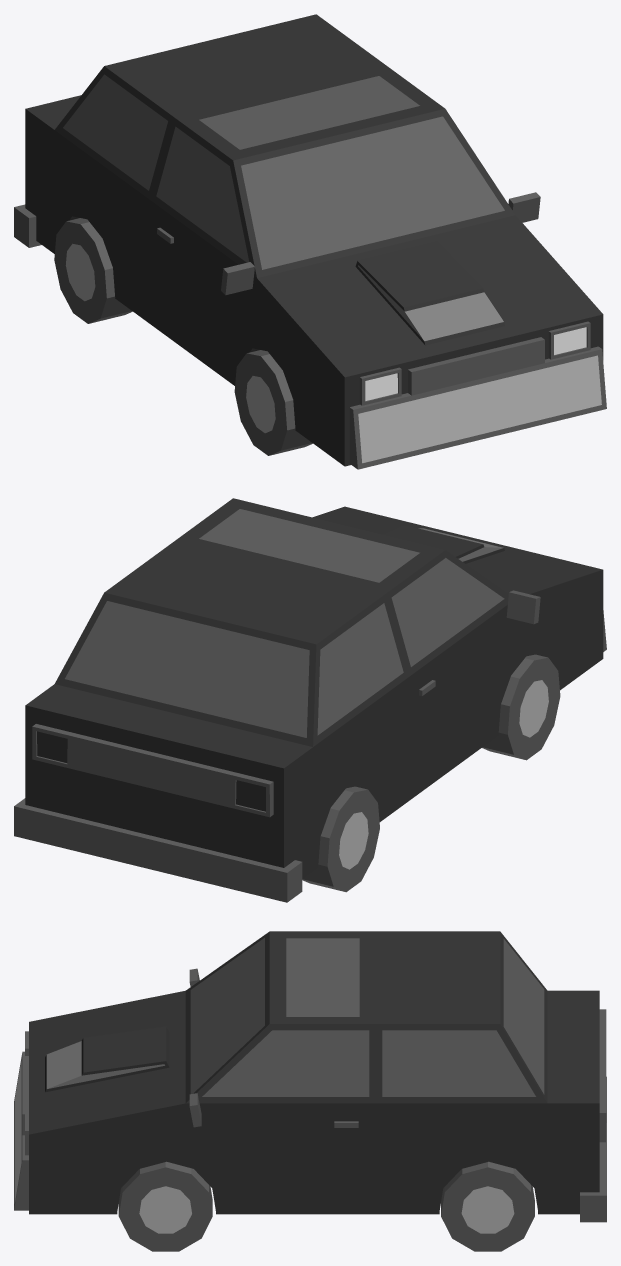
Rendered from SM_Car_09_03.FBX.
The picture shows the model from 3 angles, top to bottom: view 1: azimuth 30°, elevation 25°; view 2: azimuth 150°, elevation 25°; view 3: azimuth 270°, elevation 25°; orthographic projection. The views are drawn at different scales.
Visible parts, largest first — view 1: SM_Car_09_03, SM_Wheel_LFront002, SM_Wheel_RBack001; view 2: SM_Car_09_03, SM_Wheel_LFront002, SM_Wheel_RBack001; view 3: SM_Car_09_03, SM_Wheel_LFront001, SM_Wheel_LBack001.
Boxes of the visible parts, x1=… form: SM_Car_09_03: x1=14, y1=14, x2=606, y2=469; SM_Wheel_LFront002: x1=234, y1=350, x2=312, y2=455; SM_Wheel_RBack001: x1=54, y1=218, x2=132, y2=323; SM_Car_09_03: x1=14, y1=498, x2=606, y2=902; SM_Wheel_LFront002: x1=482, y1=654, x2=560, y2=760; SM_Wheel_RBack001: x1=302, y1=786, x2=379, y2=892; SM_Car_09_03: x1=14, y1=931, x2=606, y2=1222; SM_Wheel_LFront001: x1=118, y1=1161, x2=212, y2=1251; SM_Wheel_LBack001: x1=441, y1=1161, x2=534, y2=1251.
Bounding box in the file's own units: 1.7 × 1.25 × 3.12.
Materials: 1 (1 with a texture image).
